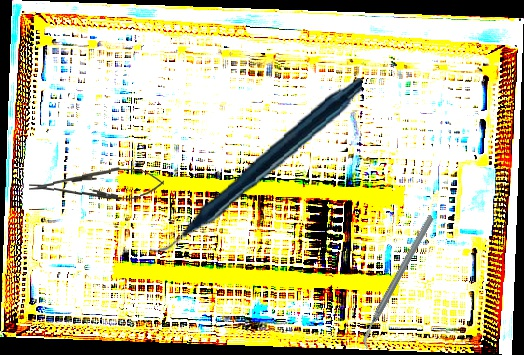Chopper: (325, 214, 472, 350)
Handpiece: (139, 77, 373, 254)
Needle Holder: (28, 165, 165, 204)
